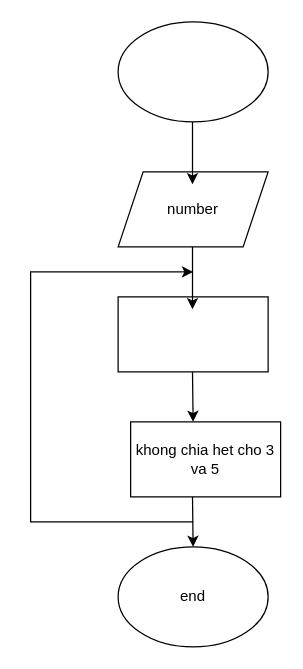
The diagram is 303 pixels wide and 669 high, and some of its shapes have lost their labels. The shapes that lost their labels are listed below. From the top down, each one's centre as x and y in pixels, then its label:
At (192,71): "start".
At (192,334): "chia hết cho 3 va 5".
